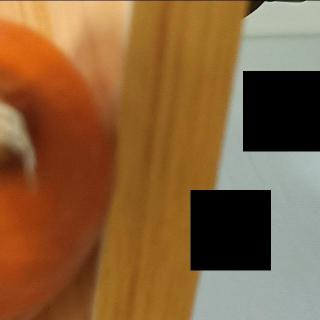carrot: (0, 5, 120, 320)
